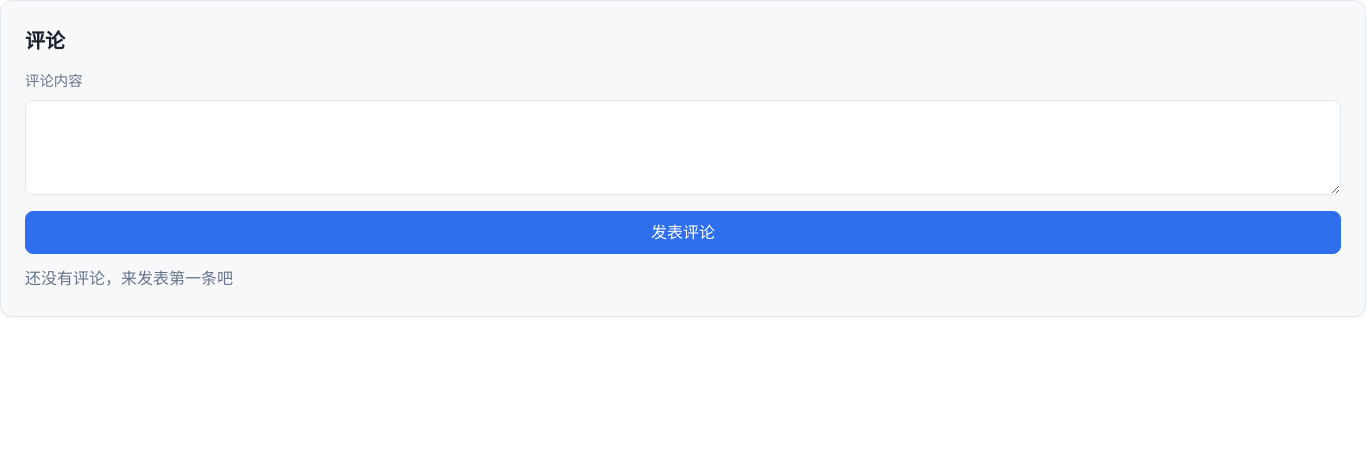
Scenario: ProductComments › shows 发布成功 for a public SVIP comment and treats author_only as a normal success
The image size is (1366, 455).
Type "SVIP 公开评论" into the text box labelled "评论内容" at (683, 147), box [25,100,1341,195]
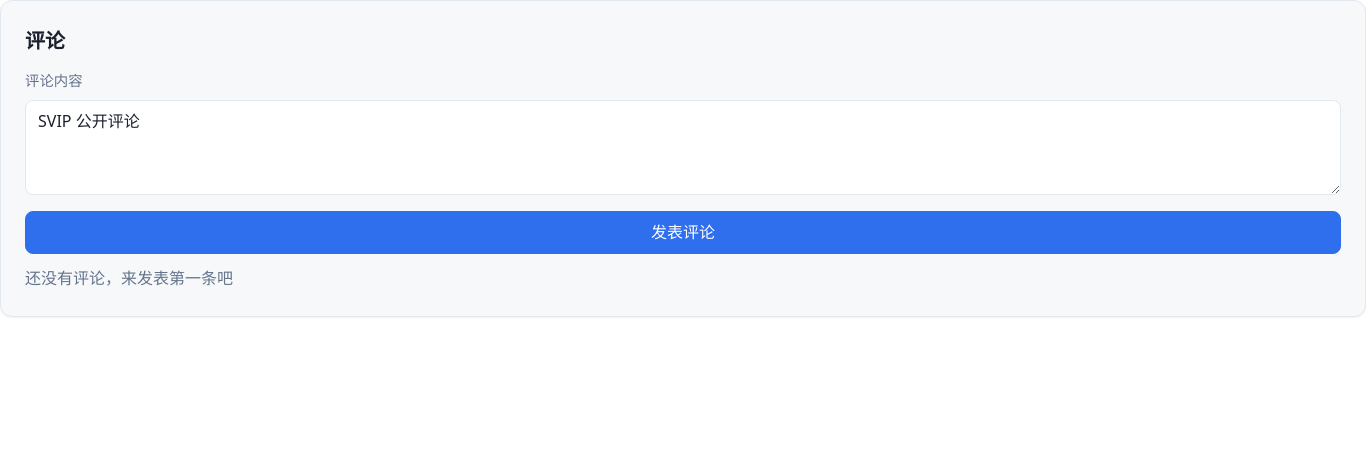
Click the button "发表评论" at (683, 233), box [25,211,1341,254]
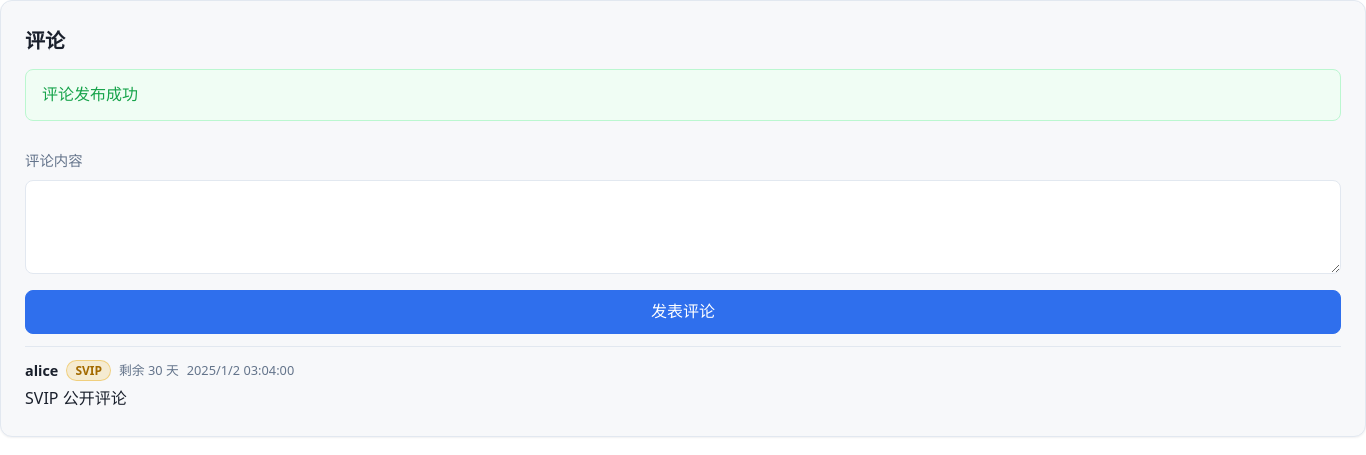
Expected: the text "评论发布成功" is shown, [25,69,1341,121]
Expected: the text "SVIP 公开评论" is shown, [25,387,127,409]
